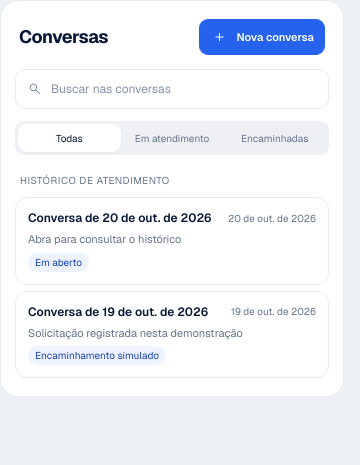
Test: busca e filtra conversas pelos estados reais sem oferecer encerramento fictício
Step 1. Click the button "Encaminhadas" → [275, 138], box [223,124,326,152]
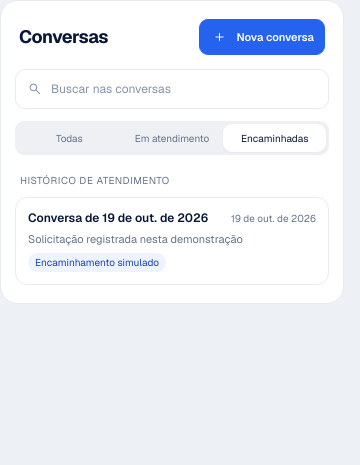
Result: the text "Encaminhamento simulado" is shown once at [28,252,166,272]
Result: the button "Em aberto" is gone
Step 2. Type "inexistente" into the field labelled "Buscar nas conversas" → [184, 89], box [51,70,317,108]
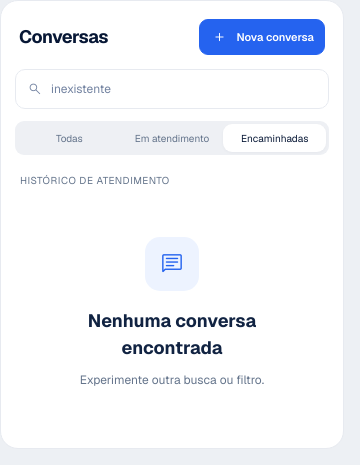
Result: the heading "Nenhuma conversa encontrada" is shown at [88,309,256,359]
